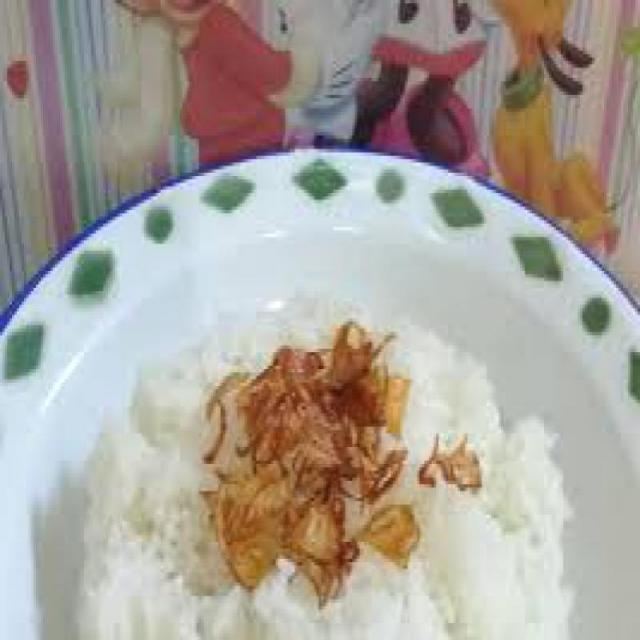rice: (72, 293, 562, 639)
